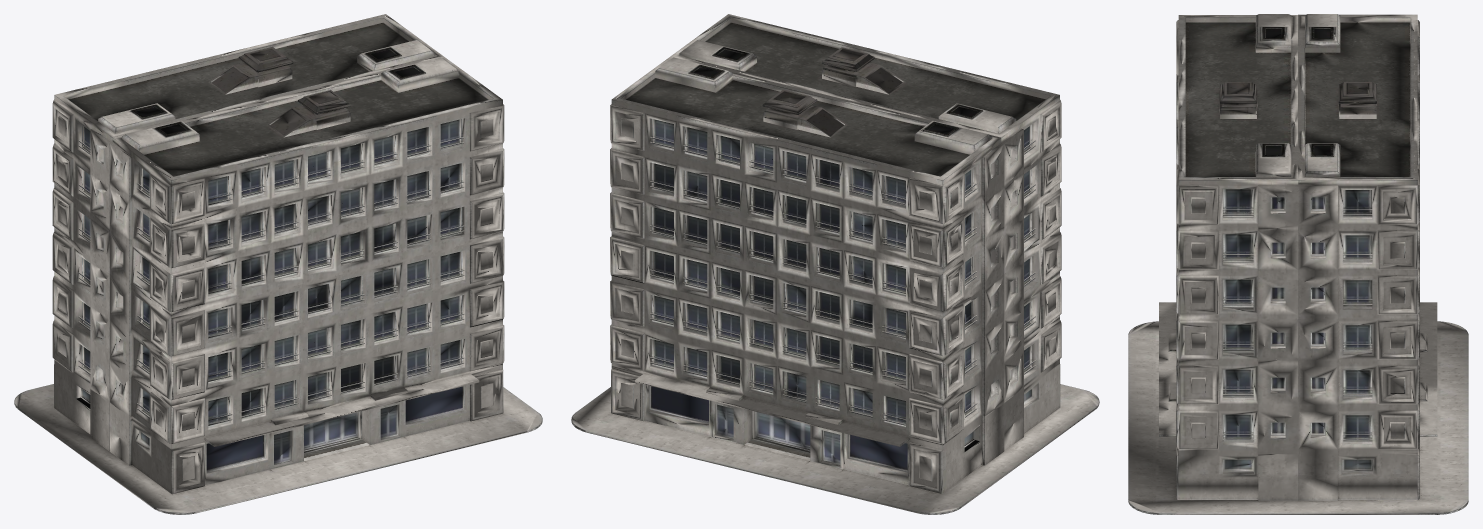
File: bld22_19.glb
3 renders of one model, left to right at view 1: azimuth 30°, elevation 25°; view 2: azimuth 150°, elevation 25°; view 3: azimuth 270°, elevation 25°, orthographic. The views are drawn at different scales.
Parts seen in each view (by area): view 1: bld22_19; view 2: bld22_19; view 3: bld22_19.
Part boxes in pixels (x1,y1,x2,y2): bld22_19: [14, 14, 542, 514]; bld22_19: [571, 14, 1099, 514]; bld22_19: [1128, 14, 1468, 514].
Size of the model in its own units: 54.59 by 44.89 by 40.89.
1 material, 1 textured.
